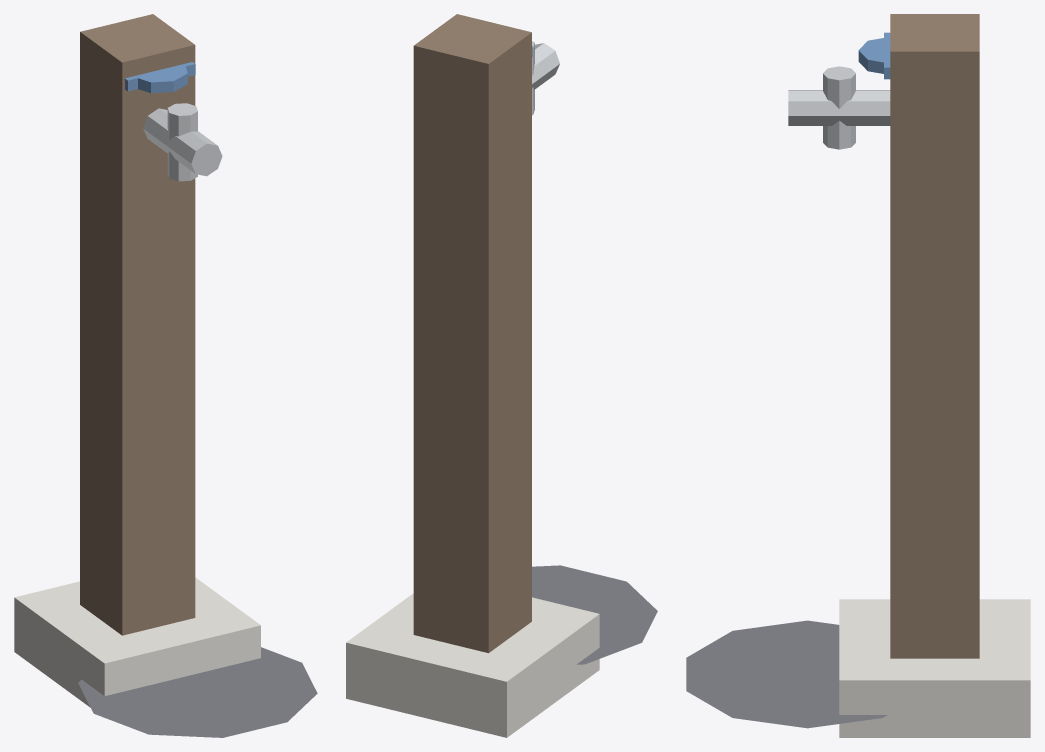
Rendered from water-tap-post.glb.
The picture shows the model from 3 angles, left to right: view 1: azimuth 30°, elevation 25°; view 2: azimuth 150°, elevation 25°; view 3: azimuth 270°, elevation 25°; orthographic projection. The views are drawn at different scales.
Visible parts, largest first — view 1: water-tap-post; view 2: water-tap-post; view 3: water-tap-post.
Part boxes in pixels (box(x1,y1,x2,y2)): water-tap-post: box(14, 14, 317, 737); water-tap-post: box(346, 14, 657, 737); water-tap-post: box(686, 14, 1030, 737).
Size of the model in its own units: 0.4 by 1.15 by 0.5402.
